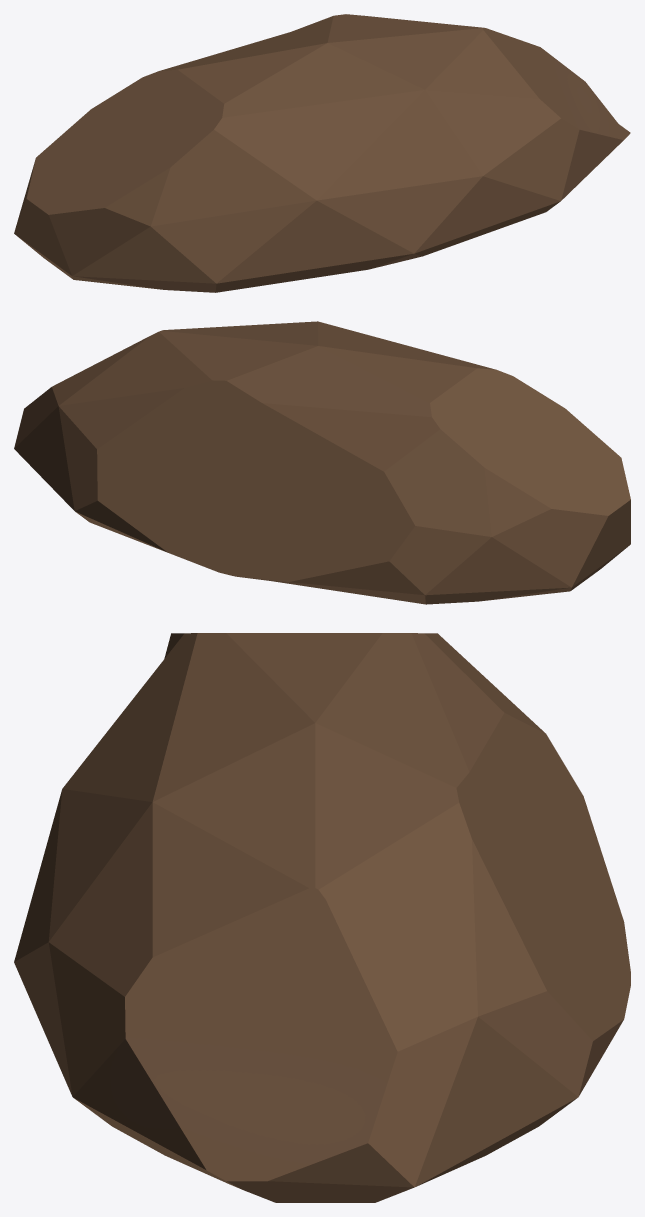
The model's file is Rock_003.fbx.
The picture shows the model from 3 angles, top to bottom: view 1: azimuth 30°, elevation 25°; view 2: azimuth 150°, elevation 25°; view 3: azimuth 270°, elevation 25°; orthographic projection. The views are drawn at different scales.
Visible parts, largest first — view 1: Rock_003; view 2: Rock_003; view 3: Rock_003.
Part boxes in pixels (bbox=[...]): Rock_003: bbox=[14, 14, 630, 292]; Rock_003: bbox=[14, 321, 630, 604]; Rock_003: bbox=[14, 633, 630, 1202].
Bounding box in the file's own units: 283 × 77.61 × 158.
